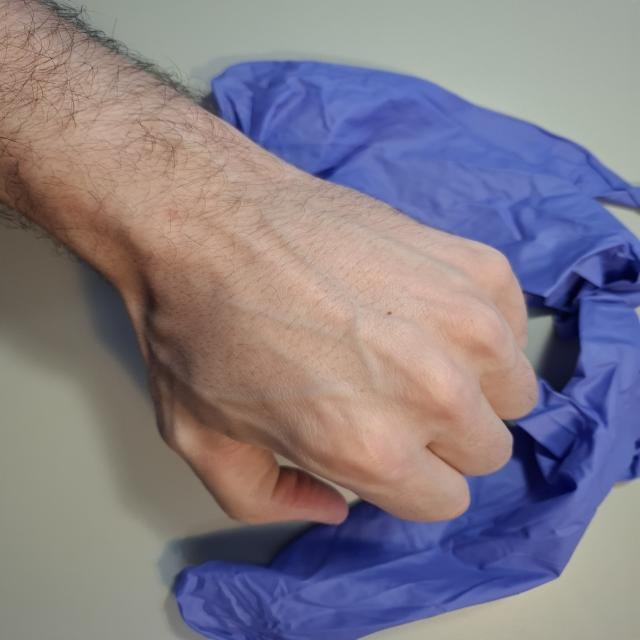glove_off: (94, 170, 544, 529)
